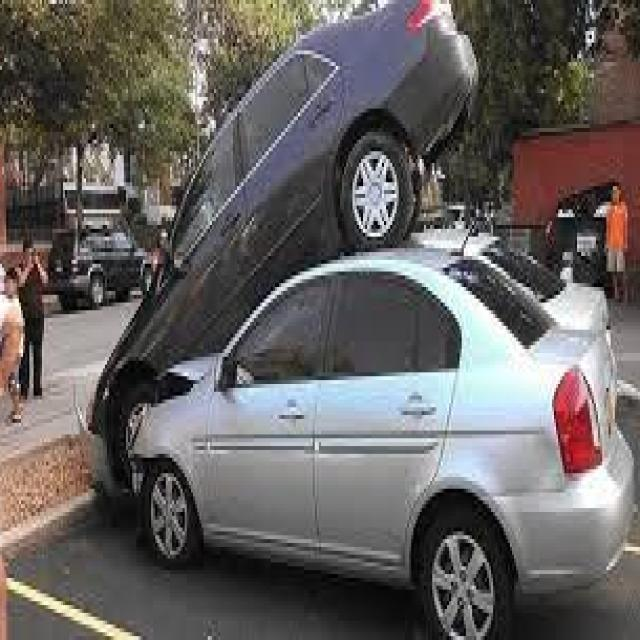multiple_accident: (127, 13, 501, 551)
